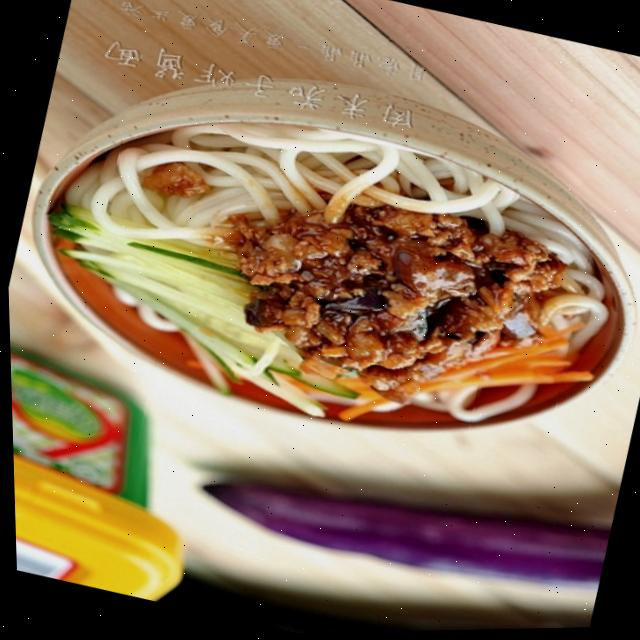面条主食: (3, 38, 640, 511)
